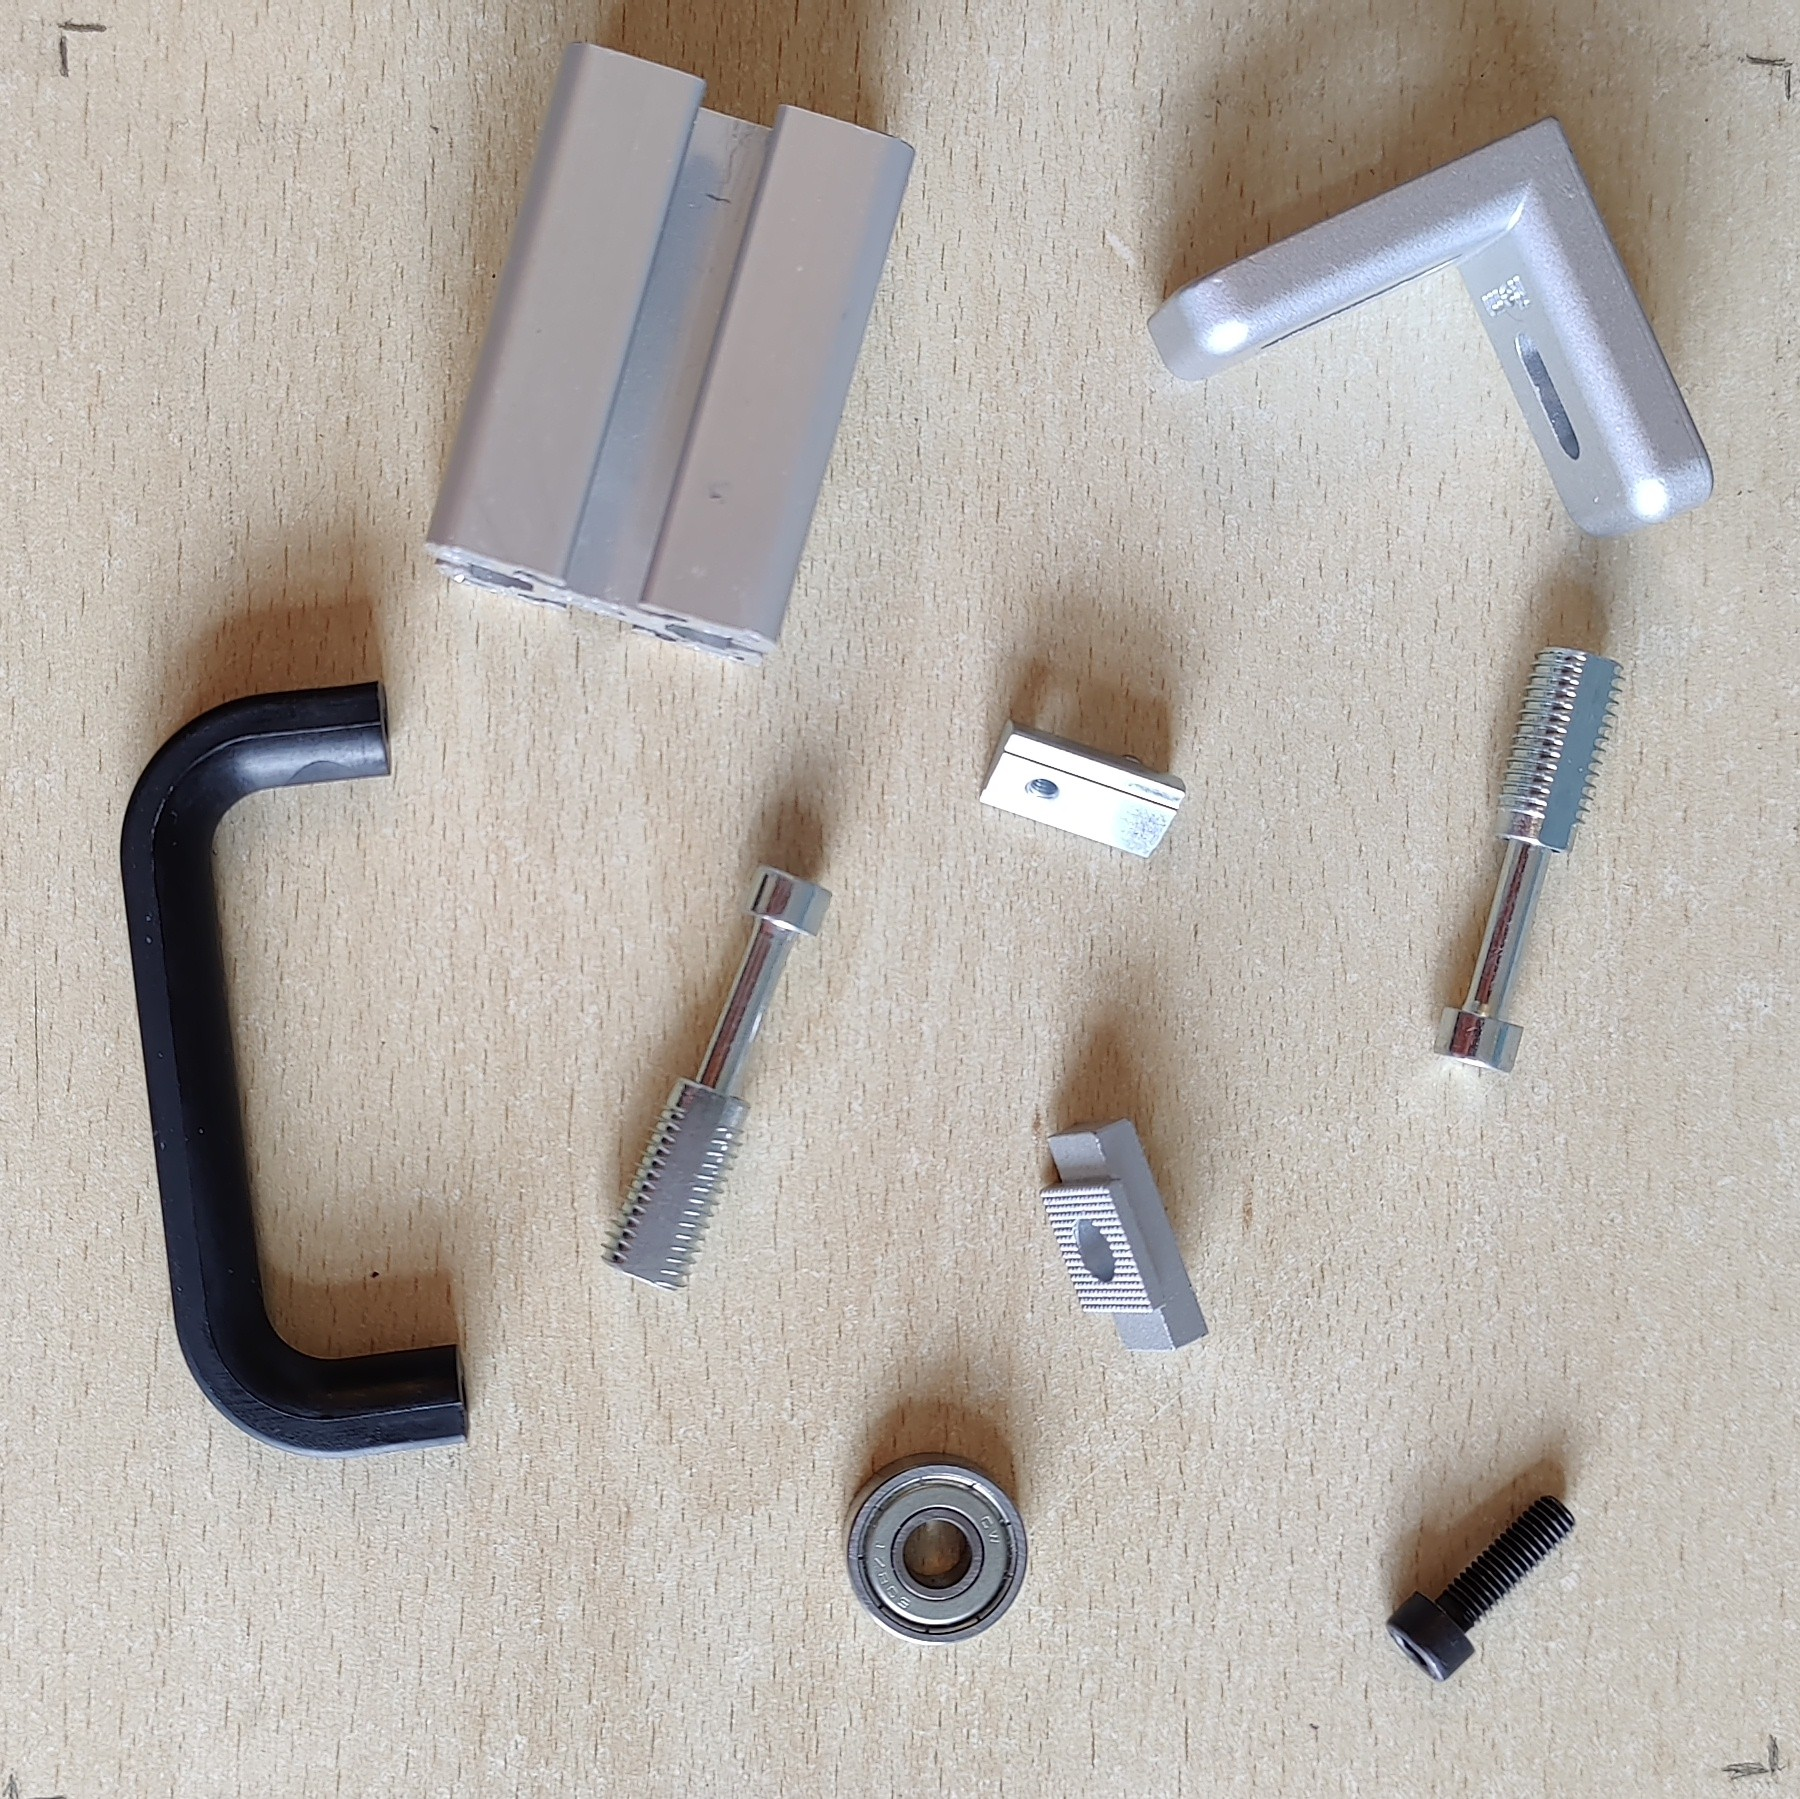Aluminium Extension: (420, 36, 919, 674)
Ball Bearing: (838, 1450, 1033, 1646)
Multiwinkel: (1141, 109, 1718, 542)
Pull Handle: (120, 677, 473, 1461)
Shoulder Socket Head Cap Screw: (598, 862, 835, 1293), (1429, 642, 1629, 1077)
Socket Head Cap Screw: (1383, 1489, 1578, 1684)
T Nut Square: (1039, 1115, 1210, 1353)
T Spring Nut: (973, 713, 1189, 863)
